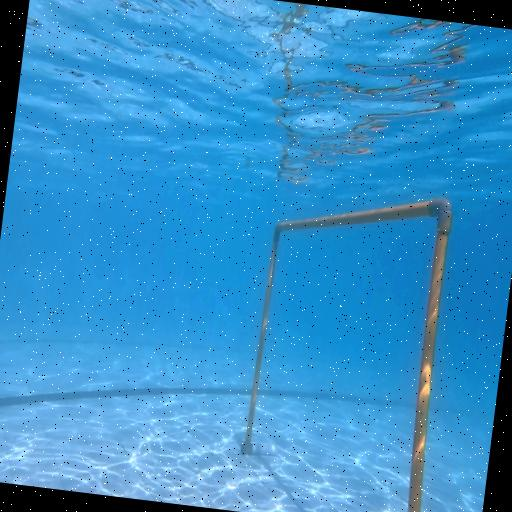gate: (232, 175, 459, 512)
